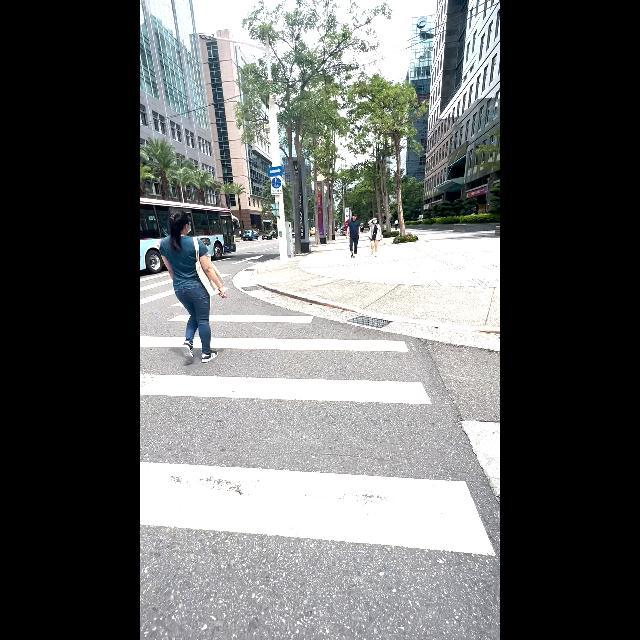sidewalk: (140, 305, 500, 640)
